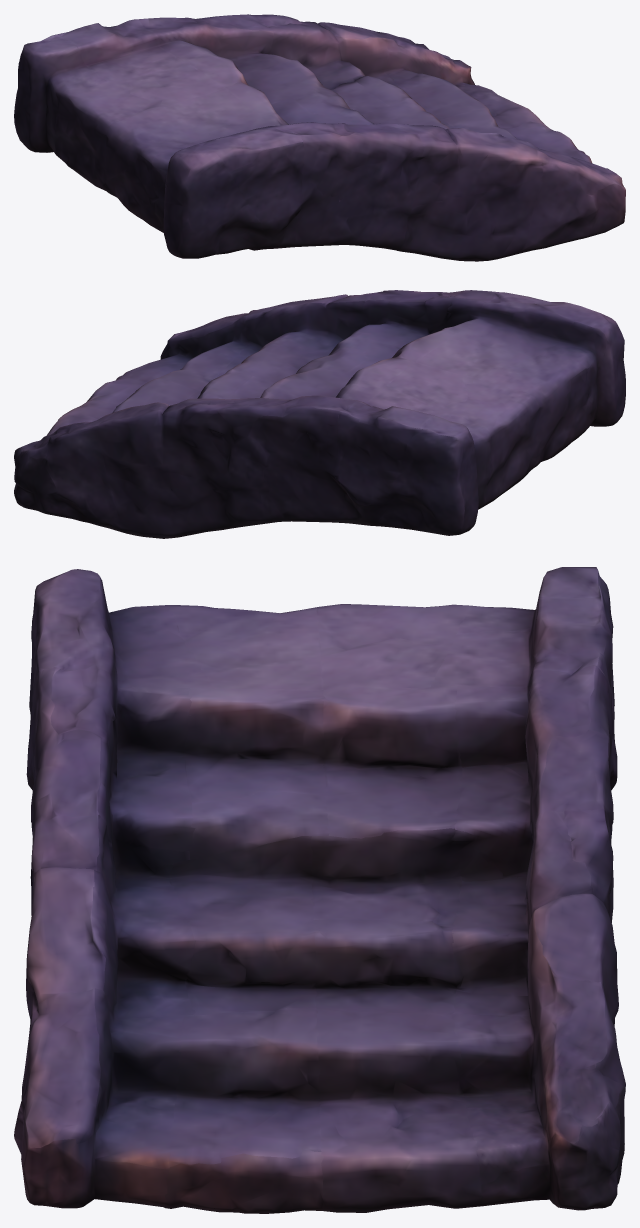
The model's file is descent-stair-web-256.glb.
The picture shows the model from 3 angles, top to bottom: view 1: azimuth 30°, elevation 25°; view 2: azimuth 150°, elevation 25°; view 3: azimuth 270°, elevation 25°; orthographic projection. The views are drawn at different scales.
Visible parts, largest first — view 1: tripo_node_7bf35ac2-22b8-4498-ad77-142e944d6228; view 2: tripo_node_7bf35ac2-22b8-4498-ad77-142e944d6228; view 3: tripo_node_7bf35ac2-22b8-4498-ad77-142e944d6228.
Part boxes in pixels (bbox=[...]): tripo_node_7bf35ac2-22b8-4498-ad77-142e944d6228: bbox=[14, 14, 625, 261]; tripo_node_7bf35ac2-22b8-4498-ad77-142e944d6228: bbox=[14, 290, 625, 538]; tripo_node_7bf35ac2-22b8-4498-ad77-142e944d6228: bbox=[14, 567, 625, 1213].
Bounding box in the file's own units: 0.9999 × 0.361 × 0.6765.
1 material, 1 textured.
